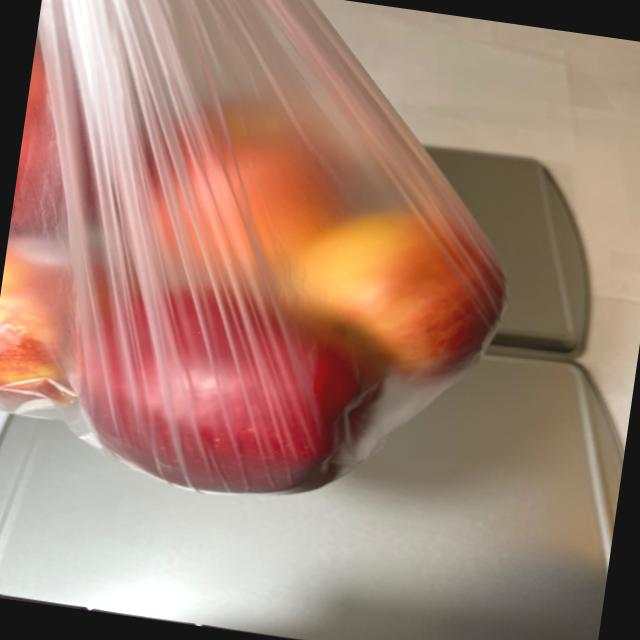apple: (0, 44, 530, 534)
